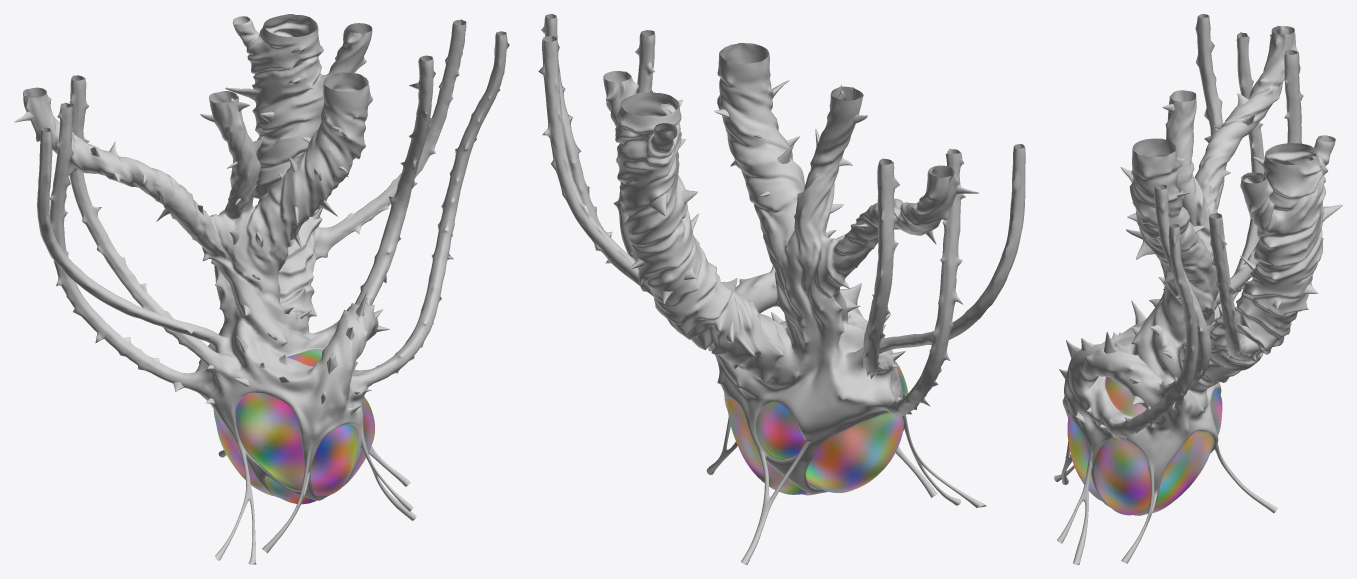
The picture shows the model from 3 angles, left to right: view 1: azimuth 30°, elevation 25°; view 2: azimuth 150°, elevation 25°; view 3: azimuth 270°, elevation 25°; orthographic projection. The views are drawn at different scales.
Parts seen in each view (by area): view 1: SM_Kuldra_Heart_01_LOD0; view 2: SM_Kuldra_Heart_01_LOD0; view 3: SM_Kuldra_Heart_01_LOD0.
Boxes of the visible parts, x1,y1,x2,y2 form: SM_Kuldra_Heart_01_LOD0: [14, 14, 509, 564]; SM_Kuldra_Heart_01_LOD0: [538, 14, 1025, 564]; SM_Kuldra_Heart_01_LOD0: [1054, 14, 1342, 564].
Bounding box in the file's own units: 28.89 × 25.33 × 16.31.
